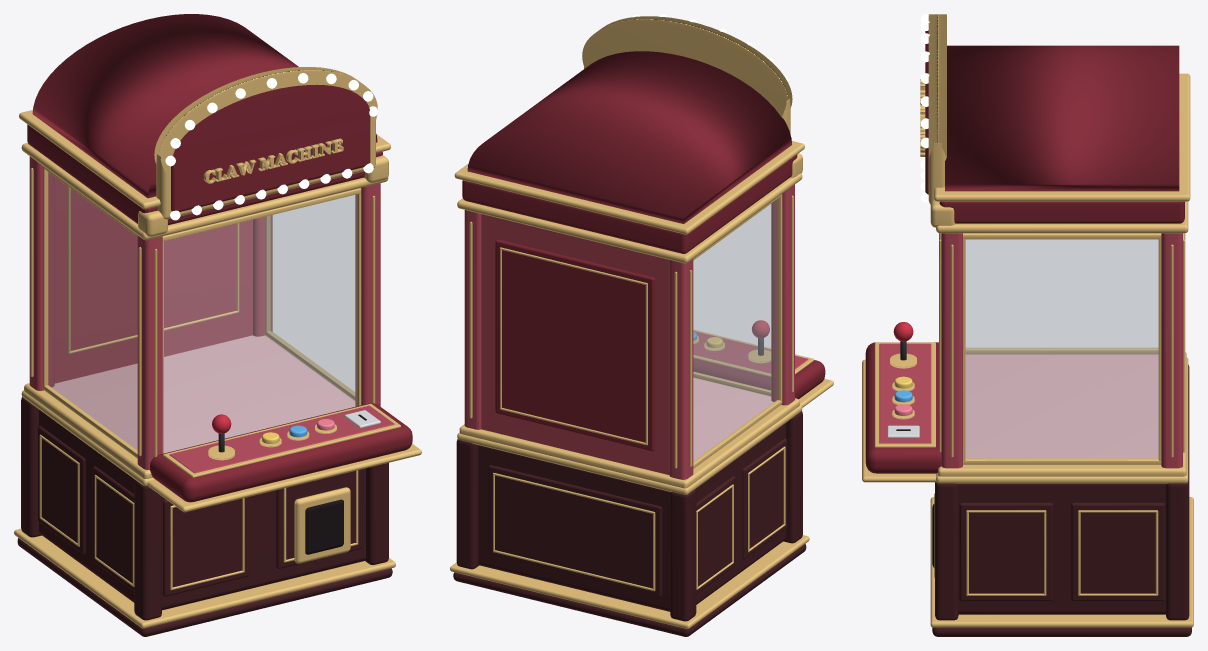
File: claw.glb
3 views of the same model, side by side, from view 1: azimuth 30°, elevation 25°; view 2: azimuth 150°, elevation 25°; view 3: azimuth 270°, elevation 25° (orthographic). The views are drawn at different scales.
Parts seen in each view (by area): view 1: claw; view 2: claw; view 3: claw.
Boxes of the visible parts, <box> form: claw: <box>14,14,421,636</box>; claw: <box>450,14,833,636</box>; claw: <box>862,14,1193,636</box>.
Bounding box in the file's own units: 1.66 × 3.32 × 1.84.
